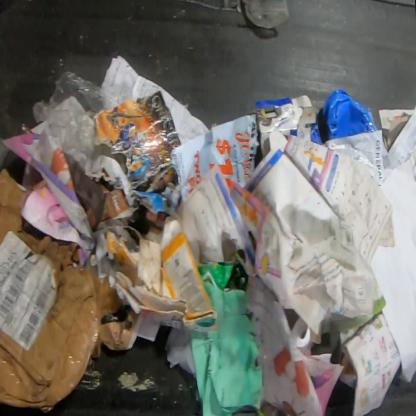cardboard: (0, 167, 122, 415), (95, 227, 220, 334), (255, 93, 323, 160), (197, 249, 248, 292), (378, 108, 415, 154)
rigid_plastic: (321, 87, 379, 140), (242, 0, 290, 30)
soft_plastic: (30, 69, 133, 177)
